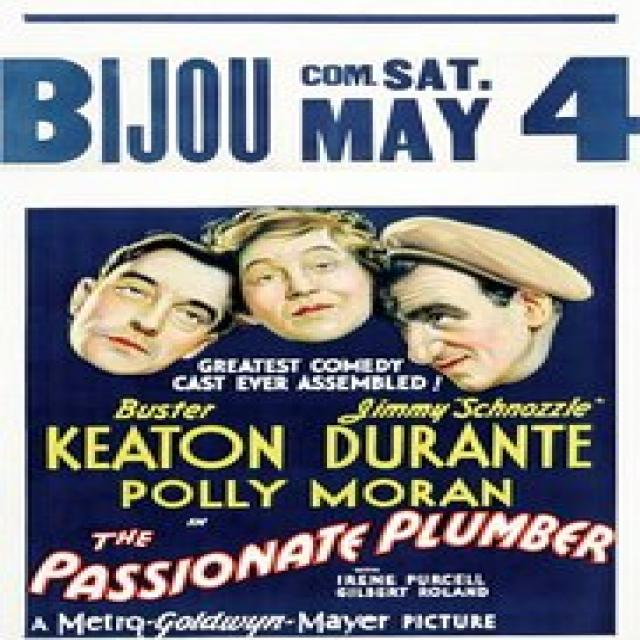movie-judul: (29, 508, 590, 600)
picture: (28, 205, 582, 395)
